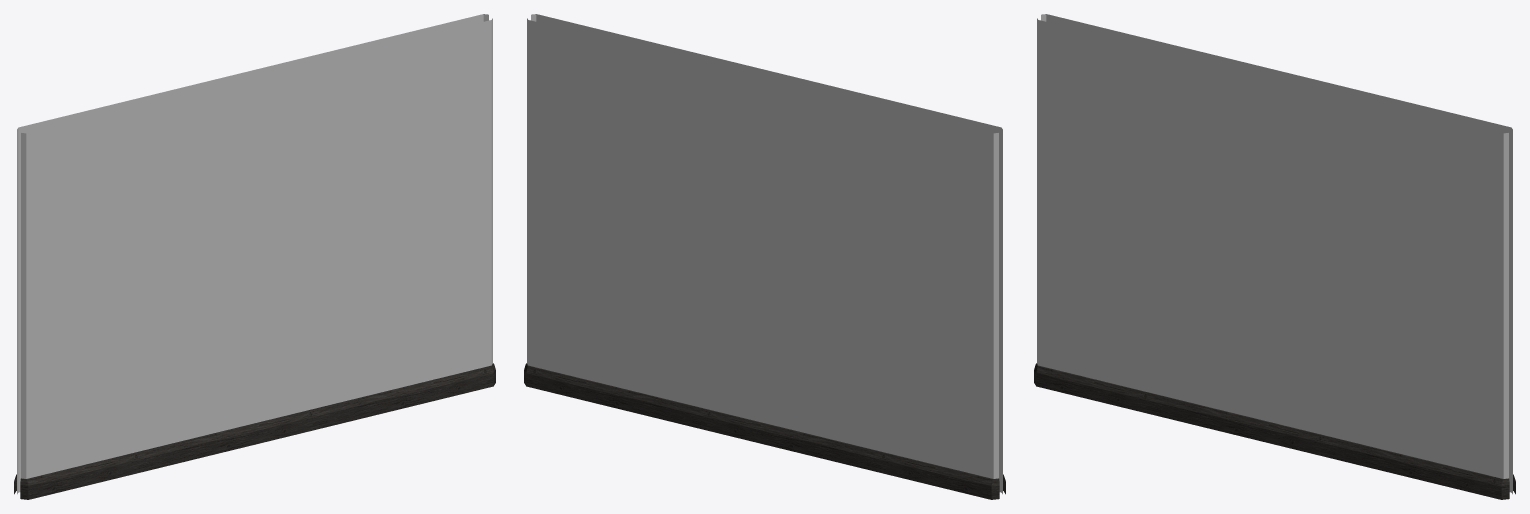
File: wall_2_2.fbx
The picture shows the model from 3 angles, left to right: view 1: azimuth 30°, elevation 25°; view 2: azimuth 150°, elevation 25°; view 3: azimuth 330°, elevation 25°; orthographic projection.
Visible parts, largest first — view 1: wall_2_2; view 2: wall_2_2; view 3: wall_2_2.
Boxes of the visible parts, <box> form: wall_2_2: <box>14,14,495,499</box>; wall_2_2: <box>524,14,1005,499</box>; wall_2_2: <box>1034,14,1515,499</box>.
Bounding box in the file's own units: 4.09 × 3 × 0.18.
